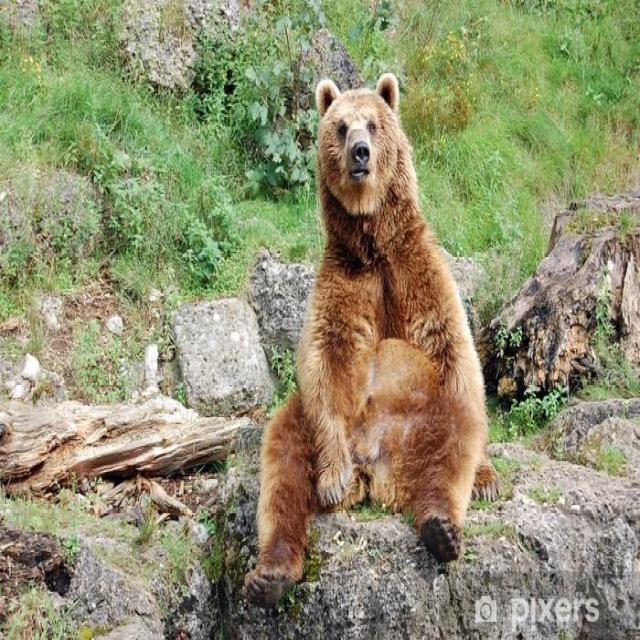Bear: (246, 74, 495, 595)
